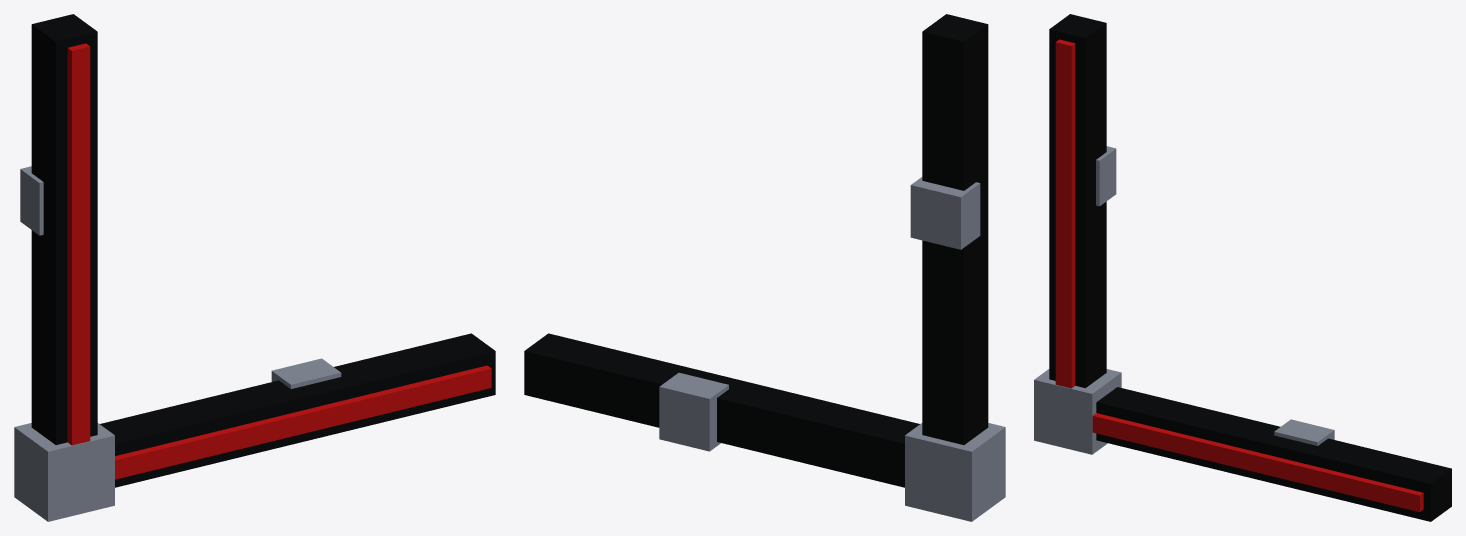
Rendered from SM_Cable_Corner_Red.glb.
3 renders of one model, left to right at view 1: azimuth 30°, elevation 25°; view 2: azimuth 150°, elevation 25°; view 3: azimuth 330°, elevation 25°, orthographic. The views are drawn at different scales.
Parts seen in each view (by area): view 1: SM_Cable_Corner_Red; view 2: SM_Cable_Corner_Red; view 3: SM_Cable_Corner_Red.
Boxes of the visible parts, x1,y1,x2,y2 form: SM_Cable_Corner_Red: [14, 14, 495, 521]; SM_Cable_Corner_Red: [524, 14, 1005, 521]; SM_Cable_Corner_Red: [1034, 14, 1451, 521].
Bounding box in the file's own units: 0.54 × 0.54 × 0.075.
